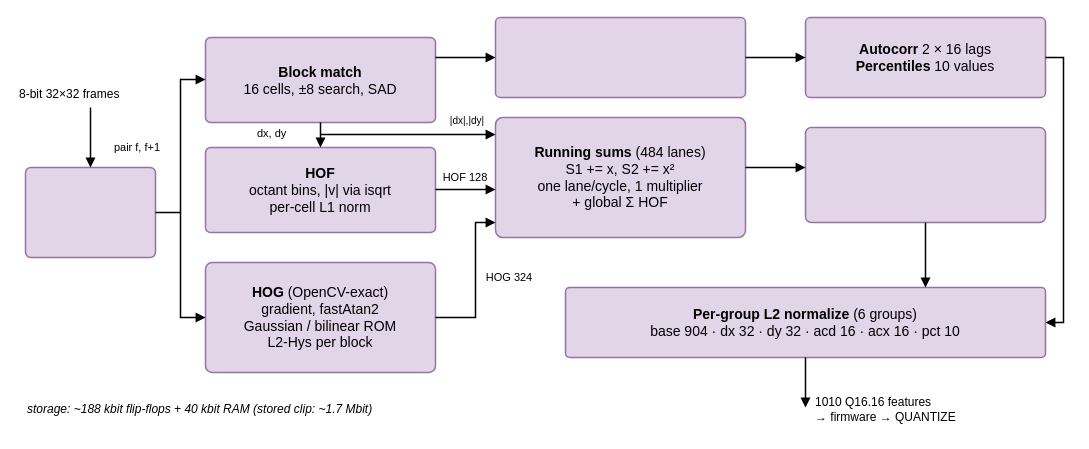
This 1089x449 diagram has some shape labels left out. Here are the shapes that lost their labels. From the top down, the centre of each, then its label:
pixel 620 57: Flow series gdx, gdy per pair
pixel 925 174: Mean / std exact SSD from S1, S2 (no frame history)
pixel 90 212: Frame store 2 slots ld_ready
